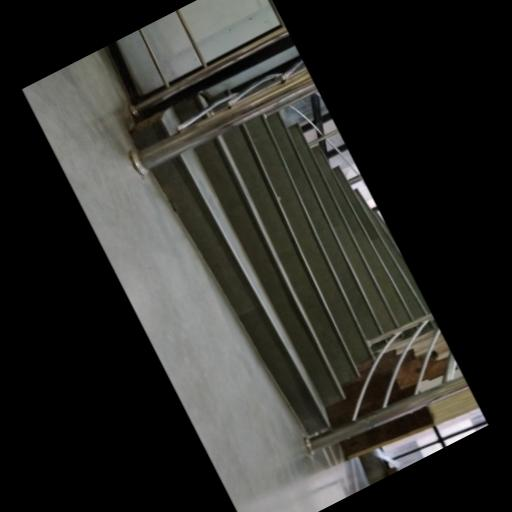stairs: (153, 114, 428, 433)
